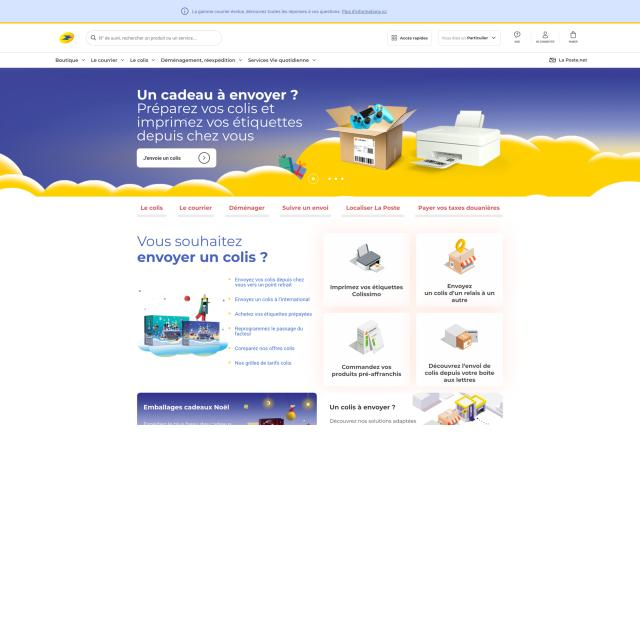input: (86, 29, 222, 46)
logo: (58, 30, 75, 45)
navigation: (136, 201, 504, 220), (51, 54, 320, 65)
